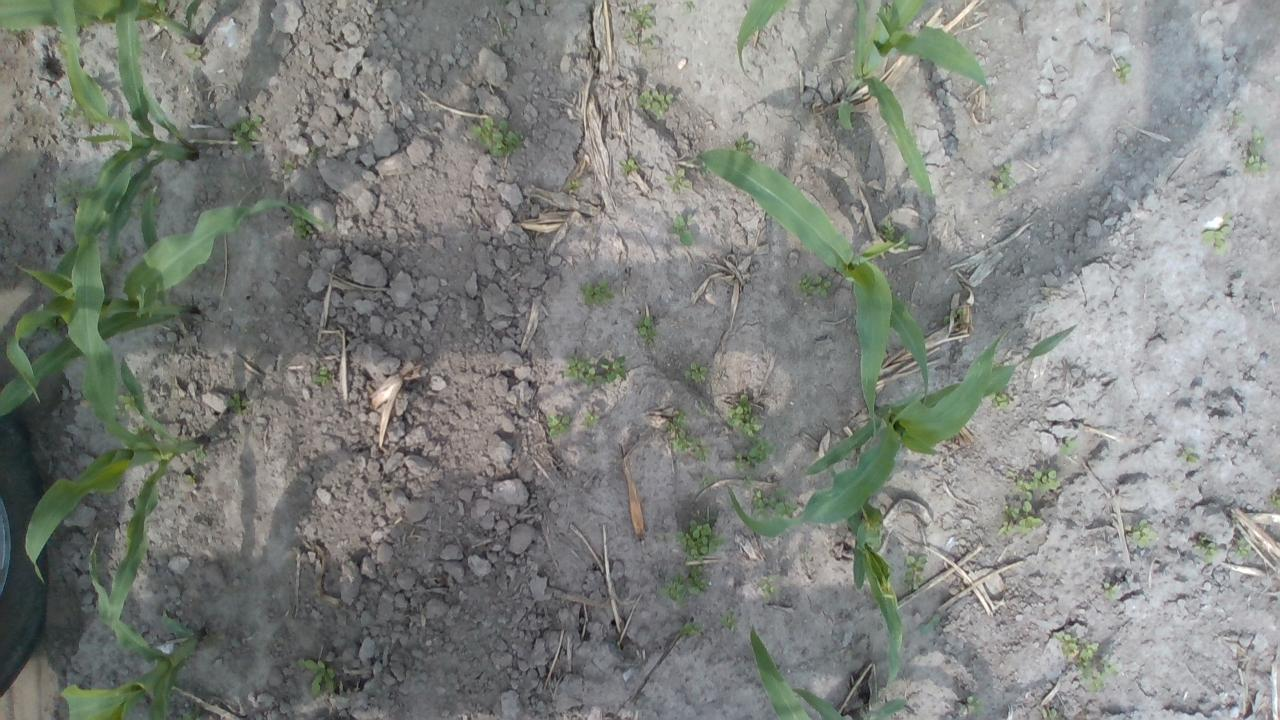Maize: (726, 326, 1092, 540), (2, 200, 332, 420), (698, 148, 931, 441), (27, 231, 212, 584), (733, 12, 993, 200), (66, 1, 202, 307), (58, 533, 210, 720), (820, 441, 904, 688), (749, 624, 911, 720), (1, 1, 208, 56)
Weeds: (660, 522, 718, 600), (1000, 470, 1064, 534), (1056, 632, 1120, 690), (726, 396, 776, 468), (474, 119, 518, 156), (568, 356, 628, 382), (672, 412, 705, 459), (752, 488, 798, 520), (300, 656, 334, 696), (906, 554, 929, 594), (642, 91, 674, 119), (994, 165, 1018, 202), (1202, 225, 1234, 251), (237, 120, 260, 155), (628, 16, 656, 44), (1249, 132, 1268, 172), (801, 272, 830, 298), (580, 284, 613, 306), (284, 154, 318, 174), (879, 220, 905, 246), (669, 219, 692, 247), (1198, 536, 1220, 560), (548, 412, 568, 438), (1135, 523, 1155, 546), (668, 172, 690, 192), (293, 215, 310, 237), (638, 318, 651, 346), (688, 362, 706, 381), (226, 393, 243, 410), (687, 620, 704, 636), (920, 618, 939, 632), (1061, 437, 1076, 454), (1184, 450, 1202, 464), (315, 367, 329, 385), (1114, 58, 1128, 76), (586, 412, 598, 432), (993, 392, 1010, 406), (762, 578, 774, 594), (1238, 541, 1248, 559), (1106, 583, 1118, 597), (968, 694, 978, 708), (1273, 488, 1280, 507), (624, 162, 636, 172), (1049, 709, 1058, 720), (723, 612, 731, 622), (1172, 482, 1180, 490)
